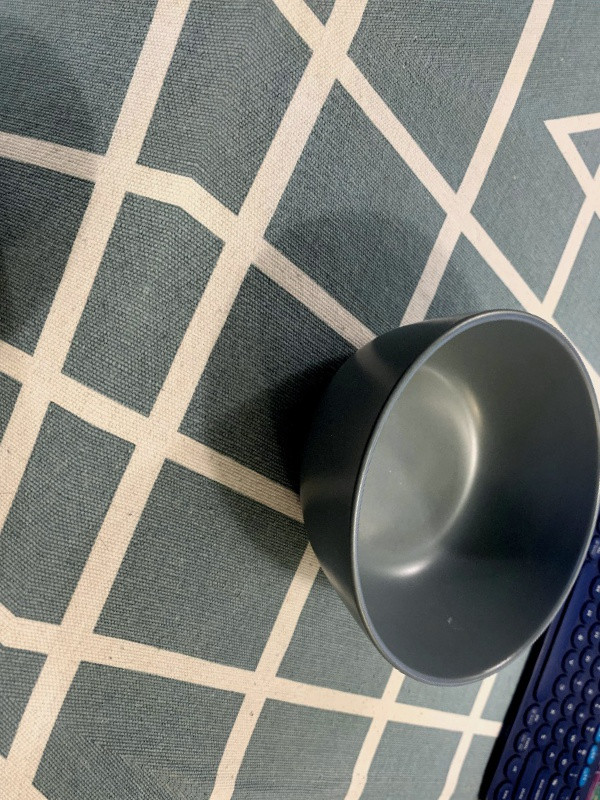bowl_big: (233, 225, 599, 738)
